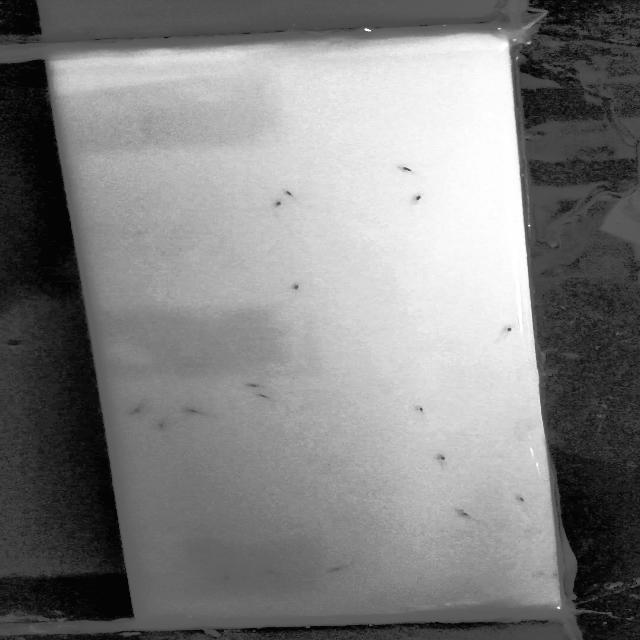shrimp: (320, 560, 361, 576), (208, 570, 245, 587), (393, 161, 422, 180), (255, 566, 285, 582), (497, 323, 529, 337), (250, 390, 282, 404), (406, 403, 434, 418), (445, 506, 475, 520), (405, 191, 434, 205), (512, 491, 534, 509), (178, 405, 208, 418), (286, 282, 314, 295), (236, 378, 266, 390), (120, 405, 151, 416), (427, 453, 458, 464), (266, 198, 288, 210), (280, 186, 300, 199), (151, 422, 173, 430)
